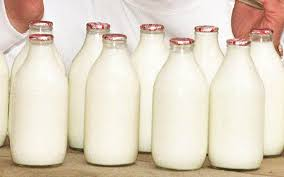milk: (212, 34, 268, 177), (11, 32, 67, 167), (86, 33, 142, 166), (152, 33, 207, 166)
